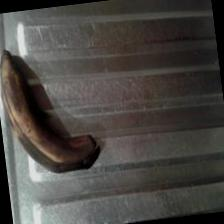Banana Rotten: (0, 31, 106, 181)
